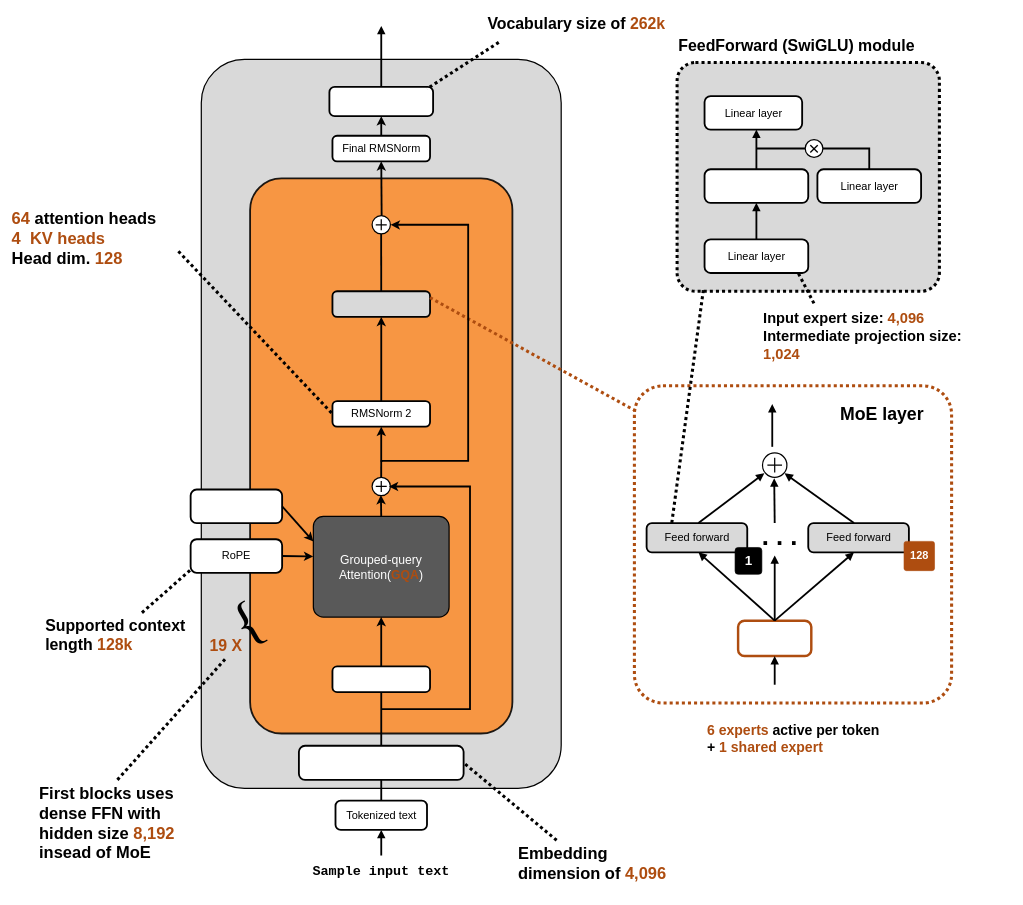
This 1023x905 diagram has some shape labels left out. The centre of each missing label's shape, as x and y in pixels:
"Linear output layer" belongs at (x=381, y=101).
"MoE" belongs at (x=381, y=304).
"QK-Norm" belongs at (x=236, y=506).
"RMSNorm 1" belongs at (x=381, y=679).
"Router" belongs at (x=774, y=638).
"SiLU activation" belongs at (x=756, y=185).
"Token embedding layer" belongs at (x=381, y=762).
